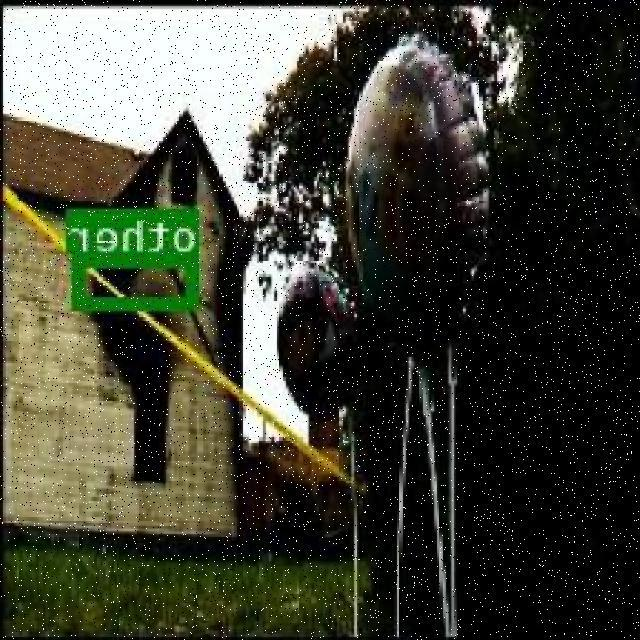other: (74, 251, 200, 307)
